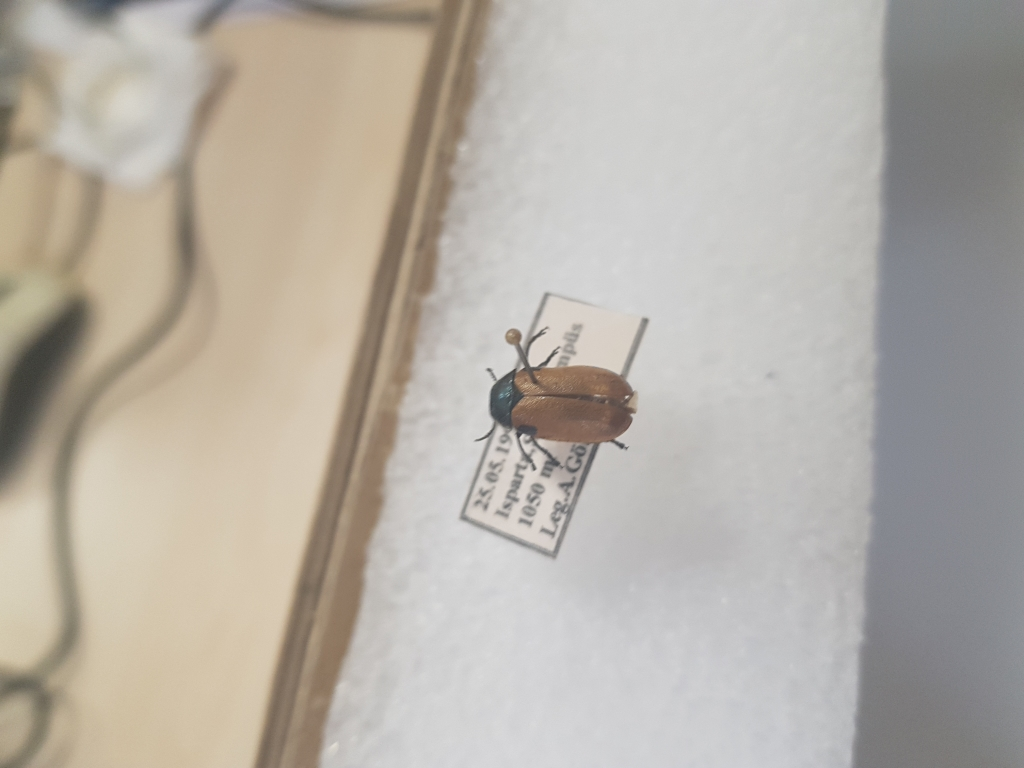Labidostomis_asiatica: (470, 320, 634, 470)
